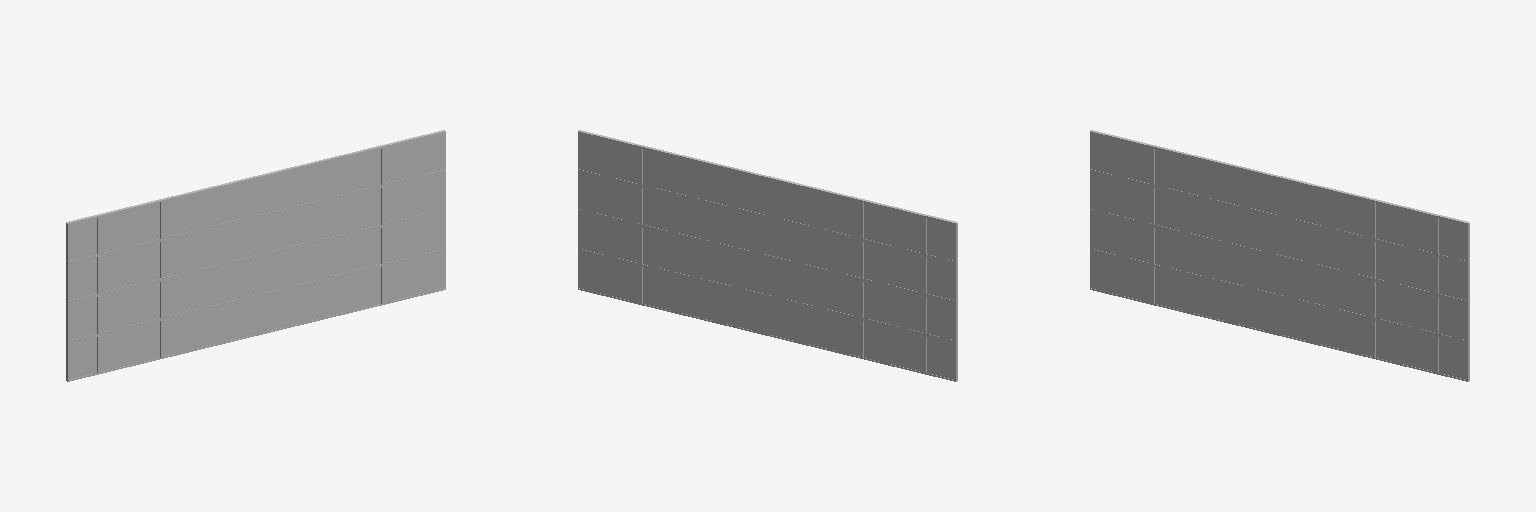
Rendered from window.obj.
3 views of the same model, side by side, from view 1: azimuth 30°, elevation 25°; view 2: azimuth 150°, elevation 25°; view 3: azimuth 330°, elevation 25° (orthographic).
Parts seen in each view (by area): view 1: window; view 2: window; view 3: window.
Boxes of the visible parts, box(x1,y1,x2,y2) form: window: box(66, 130, 445, 381); window: box(578, 130, 957, 381); window: box(1090, 130, 1469, 381).
Size of the model in its own units: 5 by 2 by 0.04.